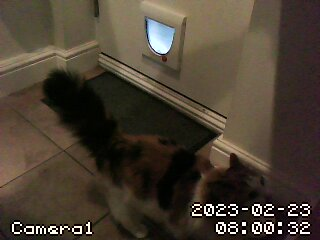clara: (43, 65, 274, 232)
